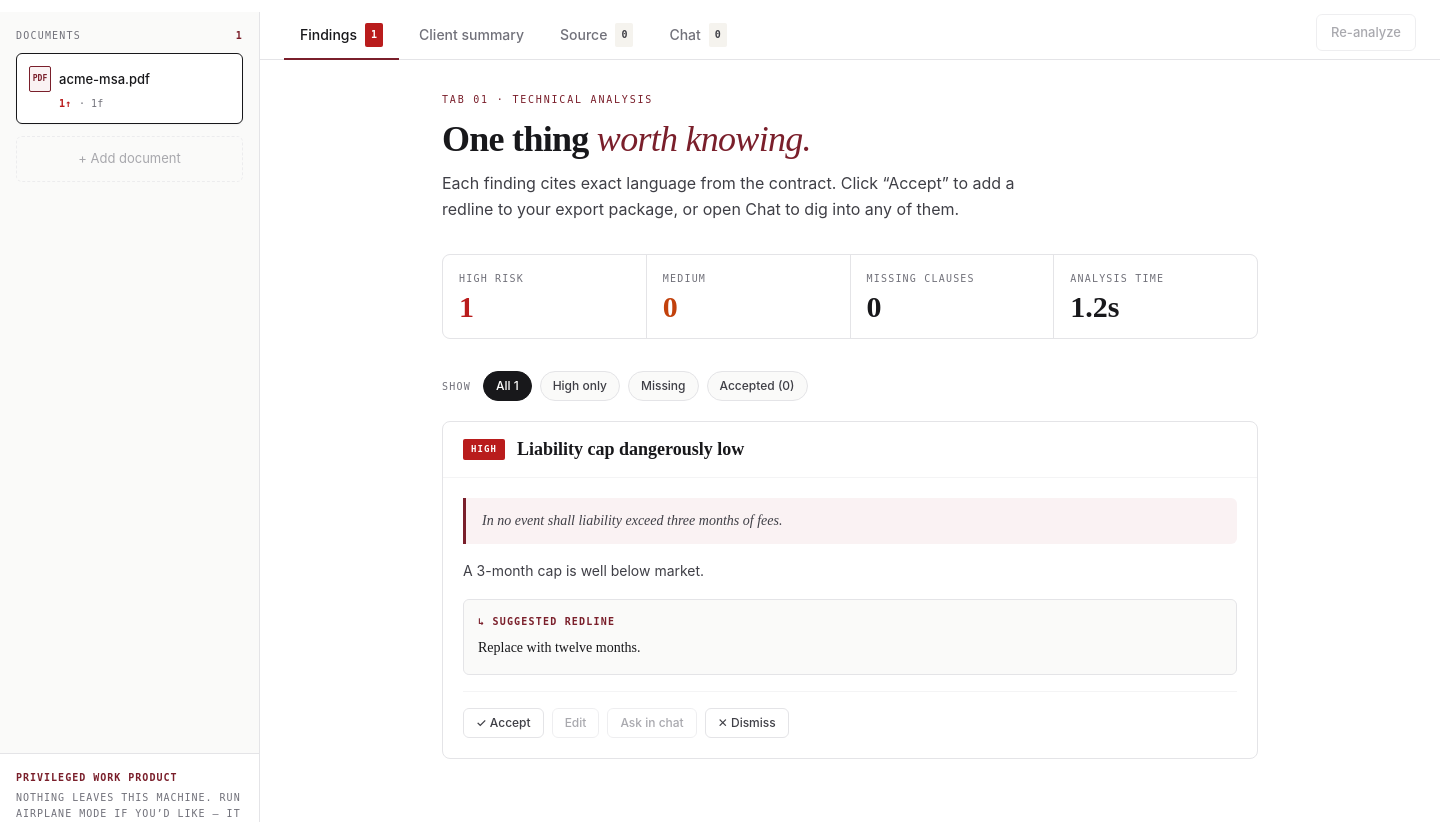
Test case: <Review /> › clicking Chat switches to the Sprint 4 placeholder
Click the button with test id "tab-chat" at (698, 36), box [653, 12, 743, 60]
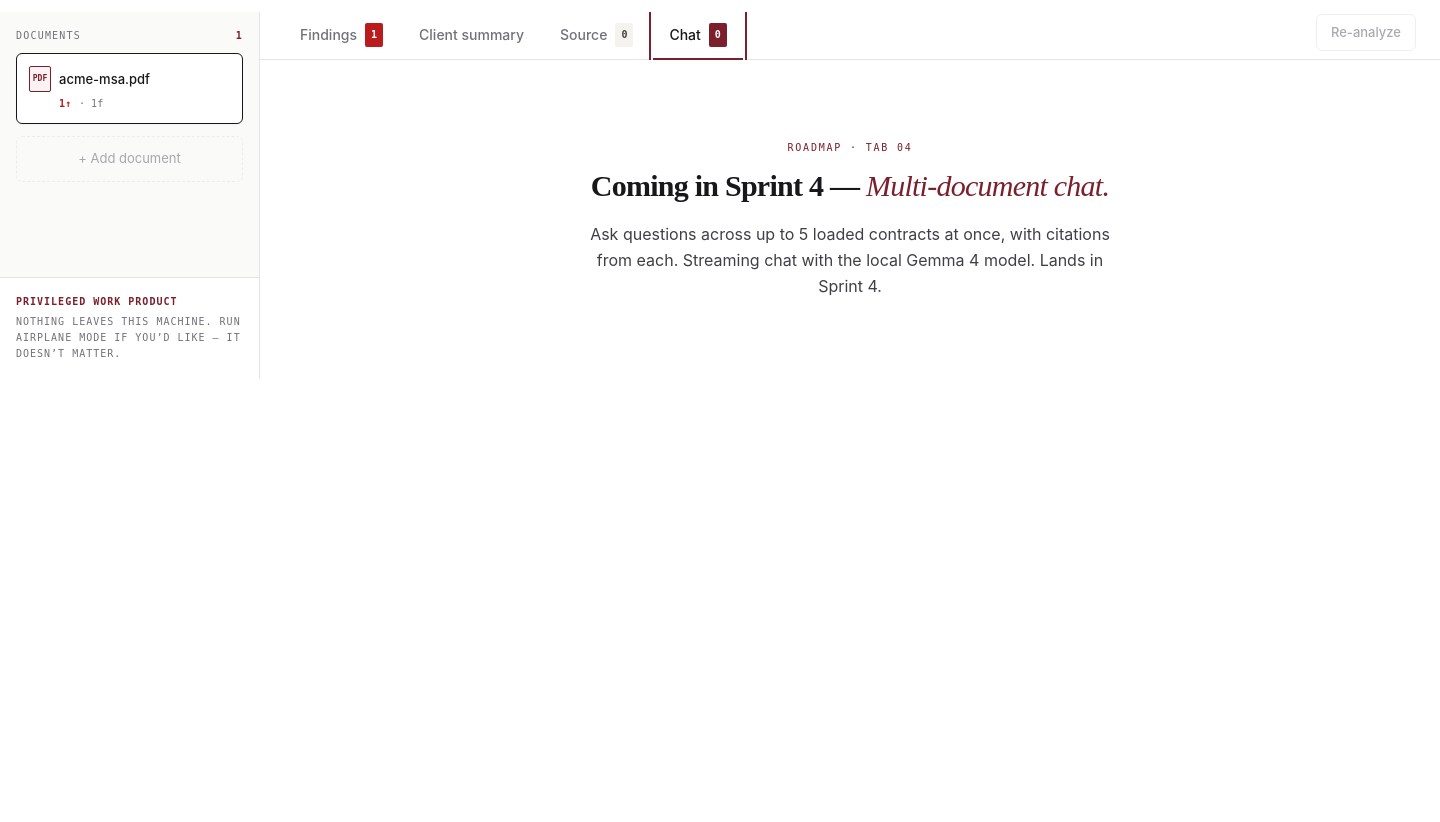
Expected: the element with test id "tab-placeholder" shows "Coming in Sprint 4", [590, 142, 1110, 296]
Expected: the element with test id "tab-placeholder" shows "Multi-document chat", [866, 169, 1102, 202]
